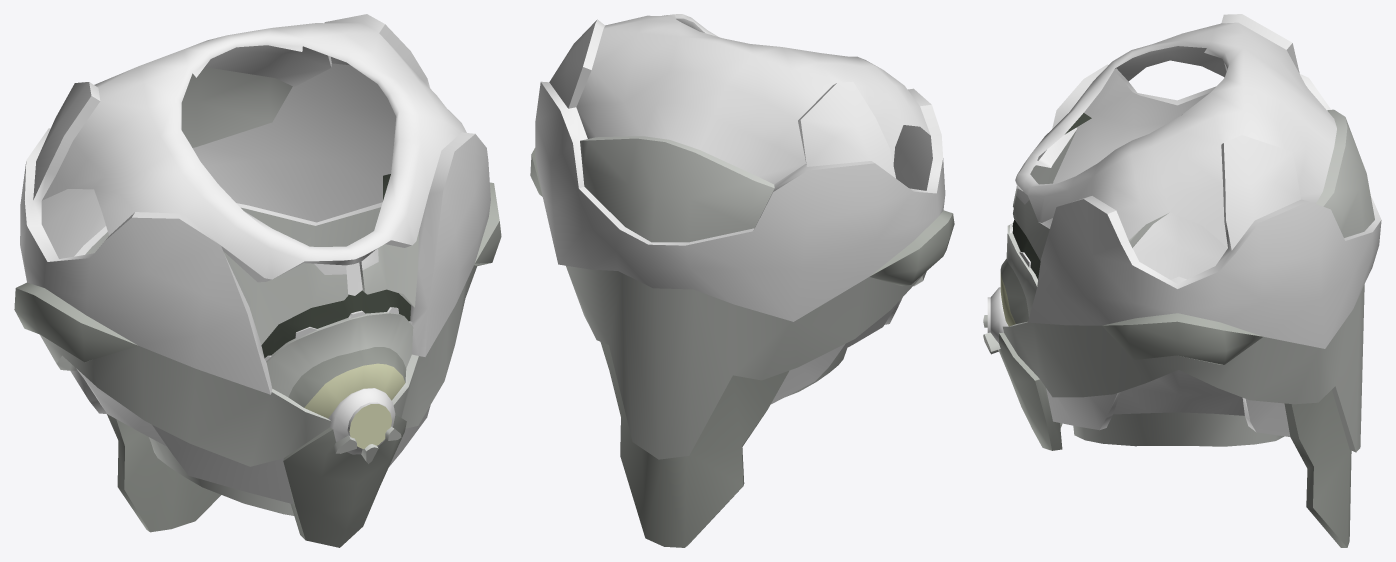
File: ralph_body.fbx
The picture shows the model from 3 angles, left to right: view 1: azimuth 30°, elevation 25°; view 2: azimuth 150°, elevation 25°; view 3: azimuth 270°, elevation 25°; orthographic projection. The views are drawn at different scales.
Visible parts, largest first — view 1: body001; view 2: body001; view 3: body001.
Boxes of the visible parts, box(x1,y1,x2,y2) form: body001: box(14, 14, 501, 547); body001: box(530, 14, 954, 547); body001: box(983, 14, 1381, 547).
Bounding box in the file's own units: 198 × 219 × 166.
